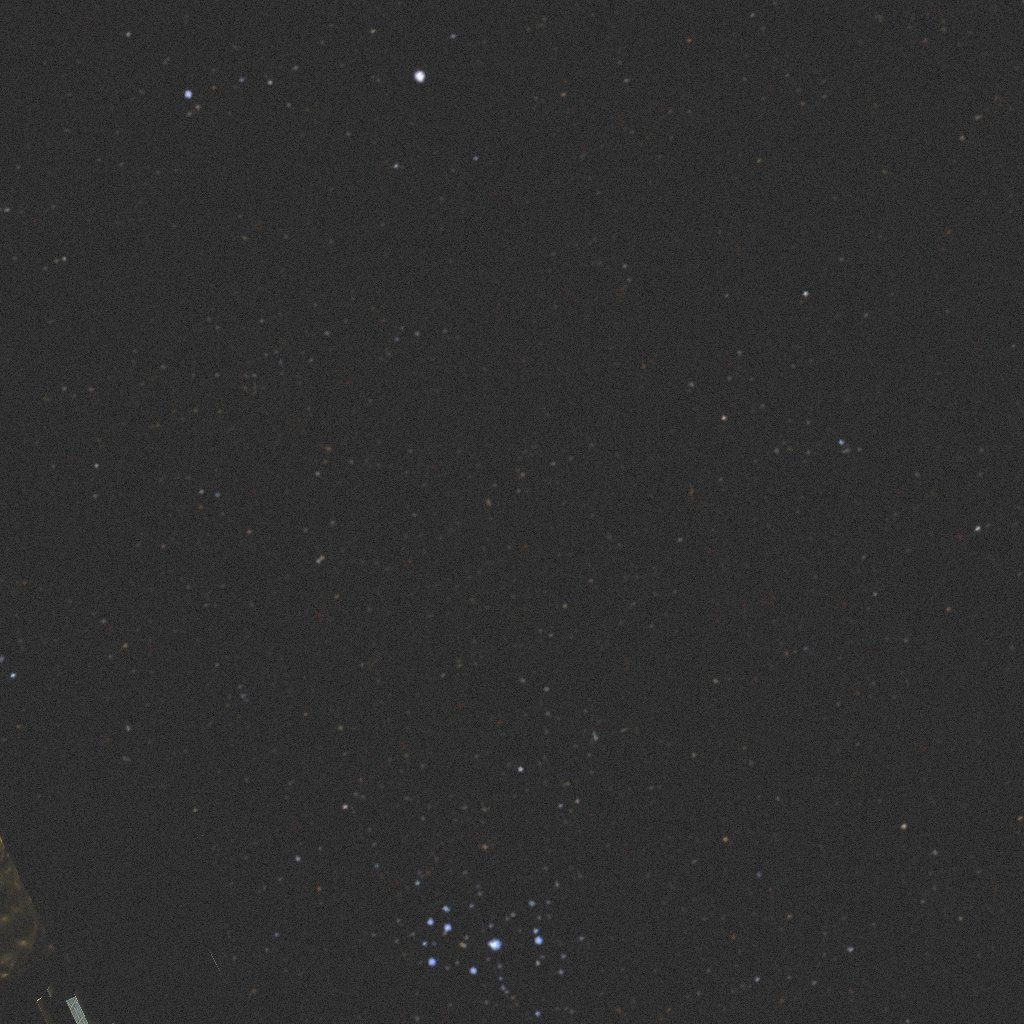earth_observation_sat_1: (24, 754, 283, 989)
